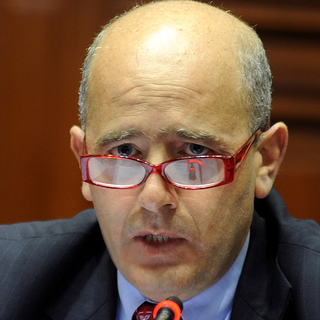eye: (165, 138, 224, 165), (100, 138, 149, 168)
